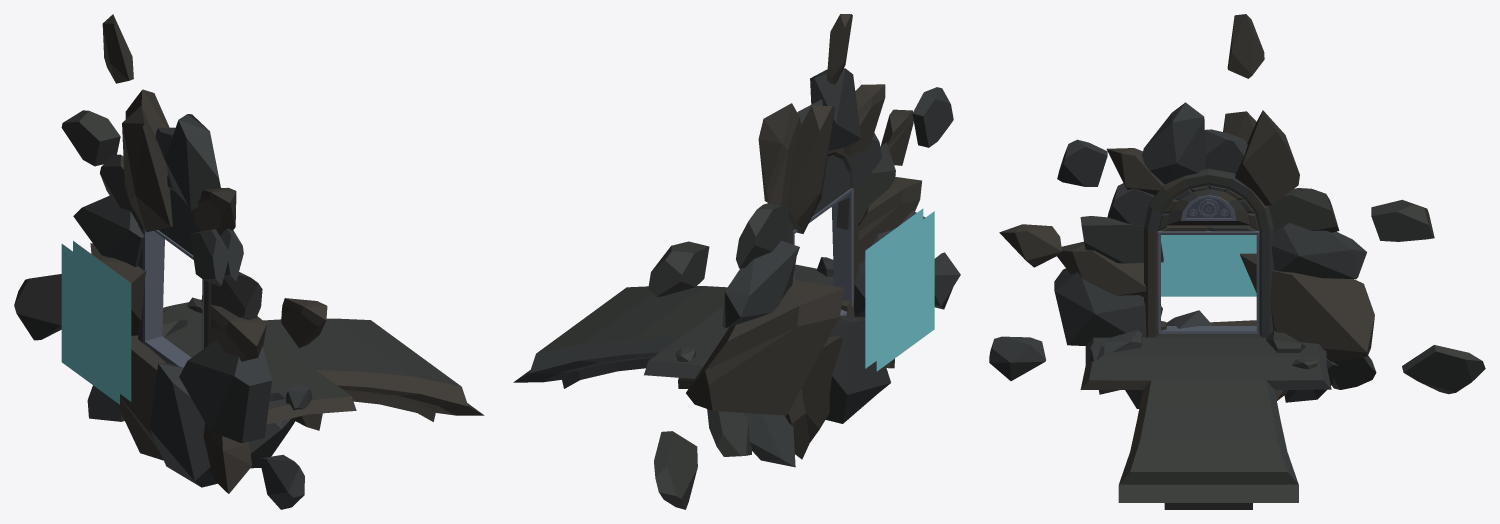
File: GATE_LVL1FREE.fbx
The picture shows the model from 3 angles, left to right: view 1: azimuth 30°, elevation 25°; view 2: azimuth 150°, elevation 25°; view 3: azimuth 270°, elevation 25°; orthographic projection. The views are drawn at different scales.
Parts seen in each view (by area): view 1: Cube.002, Cylinder.000; view 2: Cube.002, Cylinder.000; view 3: Cube.002, Cylinder.000.
Part boxes in pixels (x1,y1,x2,y2): Cube.002: (14, 14, 484, 509); Cylinder.000: (61, 241, 131, 404); Cube.002: (513, 14, 960, 509); Cylinder.000: (865, 208, 934, 371); Cube.002: (989, 14, 1485, 509); Cylinder.000: (1161, 235, 1256, 296).
Bounding box in the file's own units: 2708 × 3478 × 3939.
